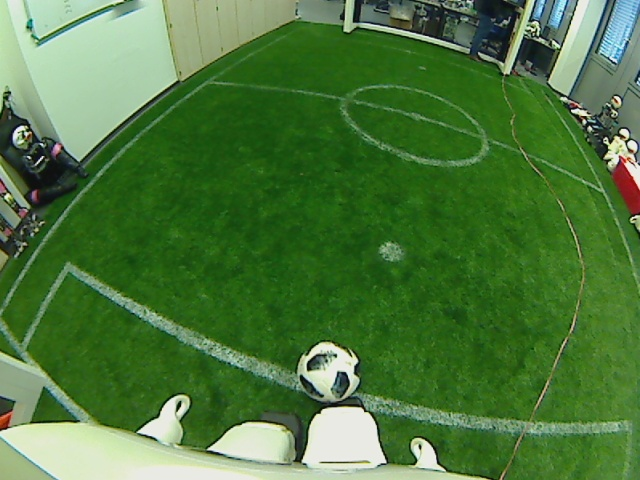ball: (293, 339, 362, 406)
